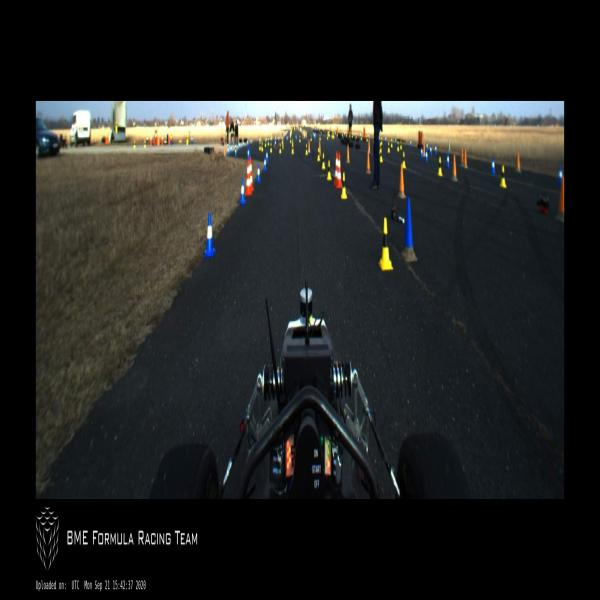blue_cone: (203, 212, 216, 255), (240, 178, 246, 204), (557, 165, 562, 185), (256, 164, 260, 182), (491, 157, 495, 174), (446, 154, 450, 168), (425, 148, 428, 162), (420, 146, 423, 159), (429, 144, 432, 156), (434, 144, 437, 155), (247, 147, 250, 157), (264, 156, 266, 170), (266, 149, 268, 163), (394, 136, 397, 144), (303, 134, 306, 142), (426, 141, 428, 153), (227, 146, 229, 156), (235, 148, 237, 157), (230, 145, 232, 154), (238, 141, 240, 150), (235, 143, 237, 151), (314, 131, 316, 139), (242, 140, 244, 148), (246, 138, 248, 146), (250, 137, 252, 145), (384, 135, 386, 143), (312, 131, 314, 137), (295, 134, 297, 140), (286, 134, 288, 140), (410, 140, 411, 146)
large_orange_cone: (245, 159, 252, 196), (336, 151, 342, 189), (250, 157, 254, 192), (334, 152, 338, 186)
yellow_cone: (379, 218, 393, 270), (341, 173, 347, 199), (500, 165, 507, 187), (437, 156, 443, 176), (327, 161, 332, 180), (403, 150, 406, 168), (380, 145, 383, 162), (322, 153, 325, 169), (386, 140, 390, 151), (305, 143, 308, 155), (291, 144, 294, 154), (318, 147, 320, 162), (379, 142, 382, 152), (380, 137, 383, 146), (279, 142, 281, 154), (397, 141, 399, 152), (360, 133, 363, 140), (270, 142, 272, 152), (400, 139, 402, 149), (261, 142, 263, 152), (258, 141, 260, 150), (268, 137, 270, 146), (310, 133, 312, 142), (390, 139, 392, 147), (264, 139, 266, 147), (319, 134, 321, 142), (366, 134, 368, 142), (332, 130, 334, 138), (299, 135, 301, 142), (355, 132, 357, 138), (351, 132, 353, 138), (341, 130, 343, 136), (290, 135, 291, 143), (327, 133, 328, 140), (331, 131, 332, 137), (346, 132, 347, 138), (334, 130, 334, 138)
